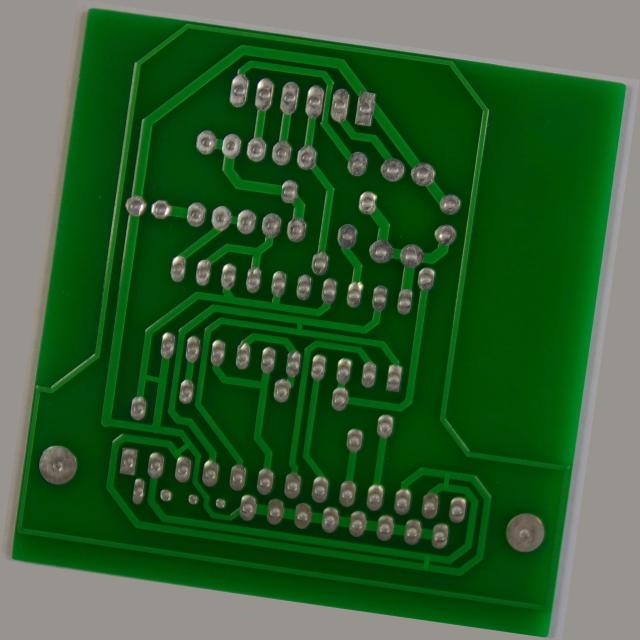short: (120, 398, 161, 428), (169, 472, 200, 500), (474, 464, 496, 495), (287, 316, 308, 342), (466, 561, 486, 587)
